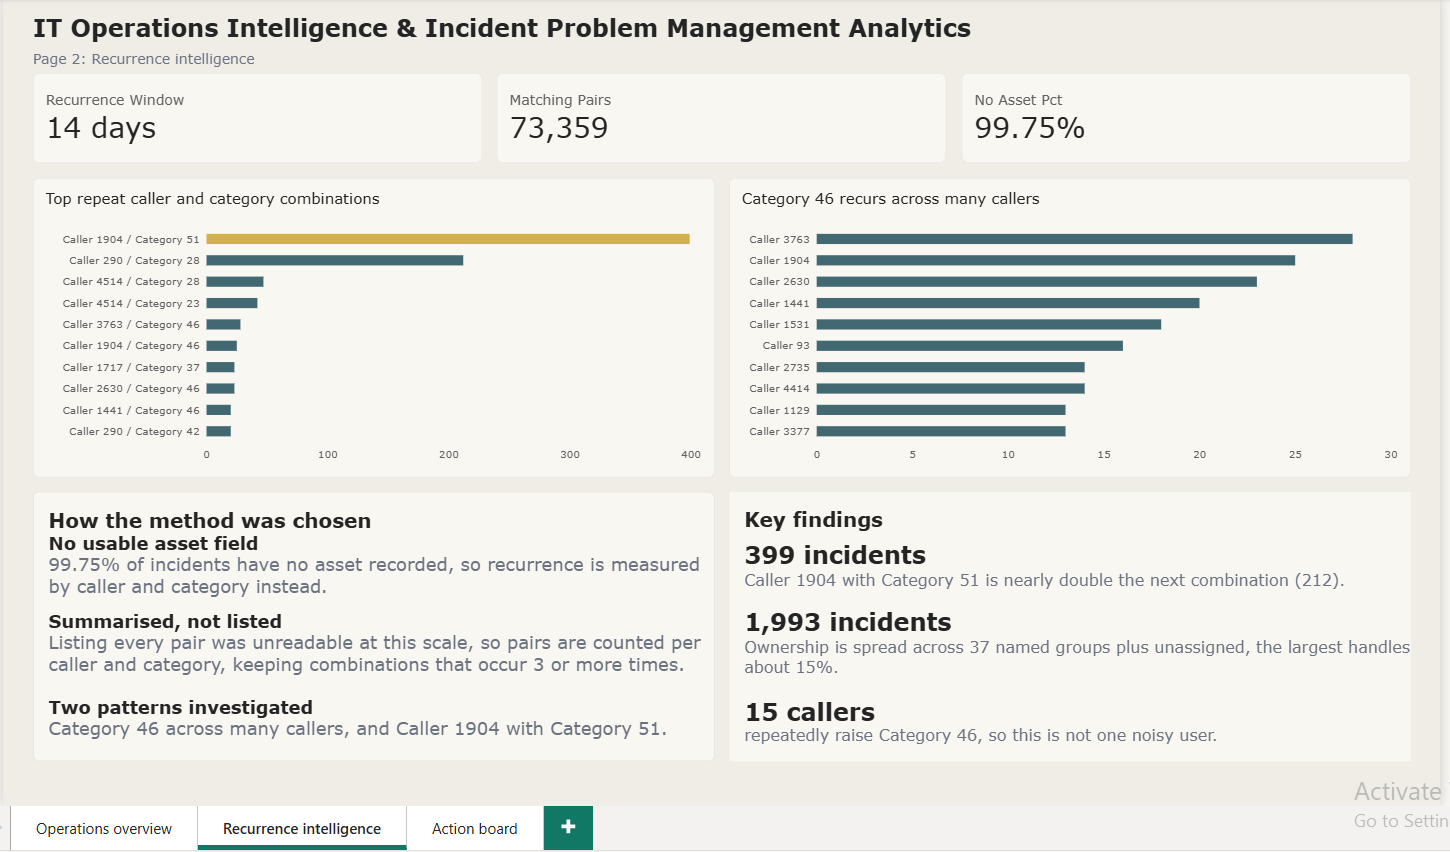

What the dashboard file says about the page in this screenshot:
{"tool":"powerbi","page":{"name":"Recurrence intelligence","canvas":[1920,1080],"ordinal":1},"visuals":[{"type":"textbox","box":[40,20,1840,60],"z":0},{"type":"textbox","box":[40,70,900,30],"z":1000},{"type":"cardVisual","fields":{"Data":["RecurrenceWindows.Recurrence Window"]},"box":[40,100,600,120],"z":2000},{"type":"cardVisual","fields":{"Data":["RecurrenceWindows.Matching Pairs"]},"box":[660,100,600,120],"z":3000},{"type":"cardVisual","fields":{"Data":["RecurrenceWindows.No Asset Pct"]},"box":[1280,100,600,120],"z":4000},{"type":"clusteredBarChart","title":"Top repeat caller and category combinations","fields":{"Category":["it_incidents incidents_final.Caller Category"],"Y":["CountNonNull(it_incidents incidents_final.number)"]},"box":[40,240,910,400],"z":5000},{"type":"textbox","box":[40,660,910,360],"z":6000},{"type":"clusteredBarChart","title":"Category 46 recurs across many callers","fields":{"Category":["it_incidents incidents_final.caller_id"],"Y":["CountNonNull(it_incidents incidents_final.number)"]},"box":[970,240,910,400],"z":7000},{"type":"textbox","box":[970,660,910,360],"z":8000}]}

Visuals, with their boxes on the page's 1920x1080 design canvas (x1, y1, x2, y2). These are canvas units, not pixel positions in the 1450x852 screenshot, which may show the page scaled, cropped or inside an application window:
textbox: <bbox>40, 20, 1880, 80</bbox>
textbox: <bbox>40, 70, 940, 100</bbox>
cardVisual - RecurrenceWindows.Recurrence Window: <bbox>40, 100, 640, 220</bbox>
cardVisual - RecurrenceWindows.Matching Pairs: <bbox>660, 100, 1260, 220</bbox>
cardVisual - RecurrenceWindows.No Asset Pct: <bbox>1280, 100, 1880, 220</bbox>
"Top repeat caller and category combinations" clusteredBarChart: <bbox>40, 240, 950, 640</bbox>
textbox: <bbox>40, 660, 950, 1020</bbox>
"Category 46 recurs across many callers" clusteredBarChart: <bbox>970, 240, 1880, 640</bbox>
textbox: <bbox>970, 660, 1880, 1020</bbox>
